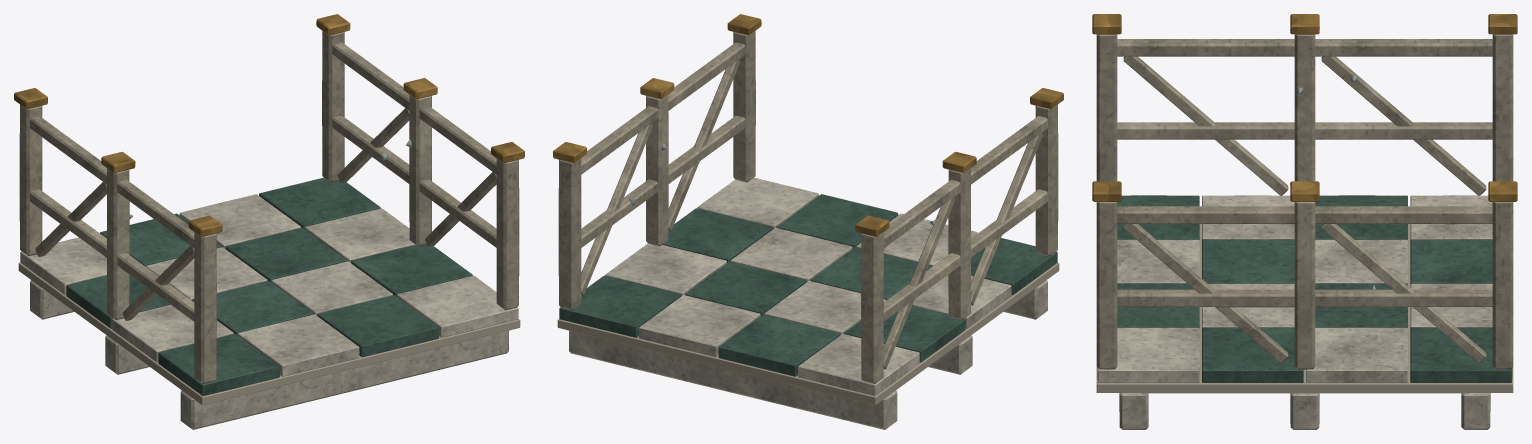
3 views of the same model, side by side, from view 1: azimuth 30°, elevation 25°; view 2: azimuth 150°, elevation 25°; view 3: azimuth 270°, elevation 25° (orthographic). The views are drawn at different scales.
Visible parts, largest first — view 1: carved-limestone-mouldings, honed-limestone, green-serpentine-marble-stone, mortar-joint-recess, aged-bronze; view 2: honed-limestone, carved-limestone-mouldings, green-serpentine-marble-stone, mortar-joint-recess, aged-bronze; view 3: honed-limestone, carved-limestone-mouldings, green-serpentine-marble-stone, mortar-joint-recess, aged-bronze.
Part boxes in pixels (bbox=[...]): carved-limestone-mouldings: bbox=[20, 194, 518, 429]; honed-limestone: bbox=[19, 31, 519, 383]; green-serpentine-marble-stone: bbox=[66, 177, 472, 395]; mortar-joint-recess: bbox=[18, 262, 520, 405]; aged-bronze: bbox=[14, 14, 524, 236]; honed-limestone: bbox=[558, 31, 1058, 383]; carved-limestone-mouldings: bbox=[569, 177, 1047, 429]; green-serpentine-marble-stone: bbox=[559, 194, 1057, 376]; mortar-joint-recess: bbox=[557, 262, 1059, 405]; aged-bronze: bbox=[553, 14, 1063, 236]; honed-limestone: bbox=[1096, 34, 1513, 369]; carved-limestone-mouldings: bbox=[1097, 195, 1492, 429]; green-serpentine-marble-stone: bbox=[1117, 195, 1512, 382]; mortar-joint-recess: bbox=[1096, 224, 1513, 393]; aged-bronze: bbox=[1092, 14, 1517, 201].
Bounding box in the file's own units: 2.04 × 1.27 × 2.04.
7 materials, 4 textured.
